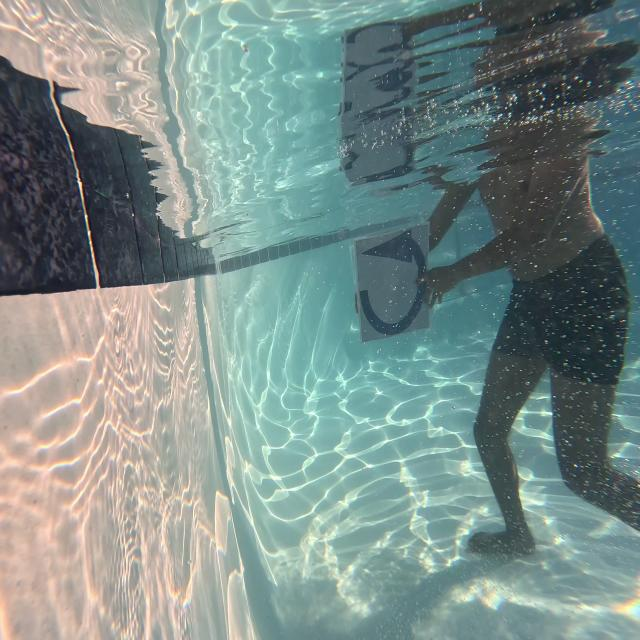blue_side: (355, 228, 430, 336)
